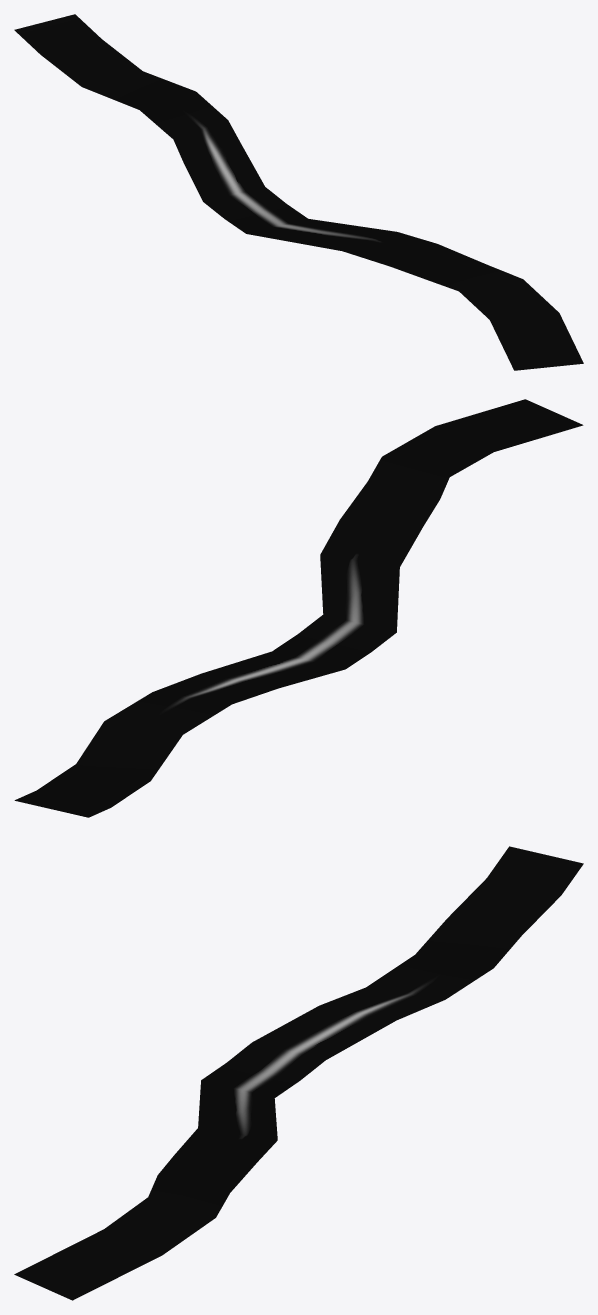
Rendered from blizzard_fx_plane.fbx.
3 views of the same model, one above another, from view 1: azimuth 30°, elevation 25°; view 2: azimuth 150°, elevation 25°; view 3: azimuth 330°, elevation 25° (orthographic). The views are drawn at different scales.
Visible parts, largest first — view 1: blizzard_fx_plane_01; view 2: blizzard_fx_plane_01; view 3: blizzard_fx_plane_01.
Boxes of the visible parts, x1,y1,x2,y2 form: blizzard_fx_plane_01: [14, 14, 583, 370]; blizzard_fx_plane_01: [14, 399, 583, 817]; blizzard_fx_plane_01: [14, 846, 583, 1300].
Bounding box in the file's own units: 4.66 × 0.6596 × 26.21.
